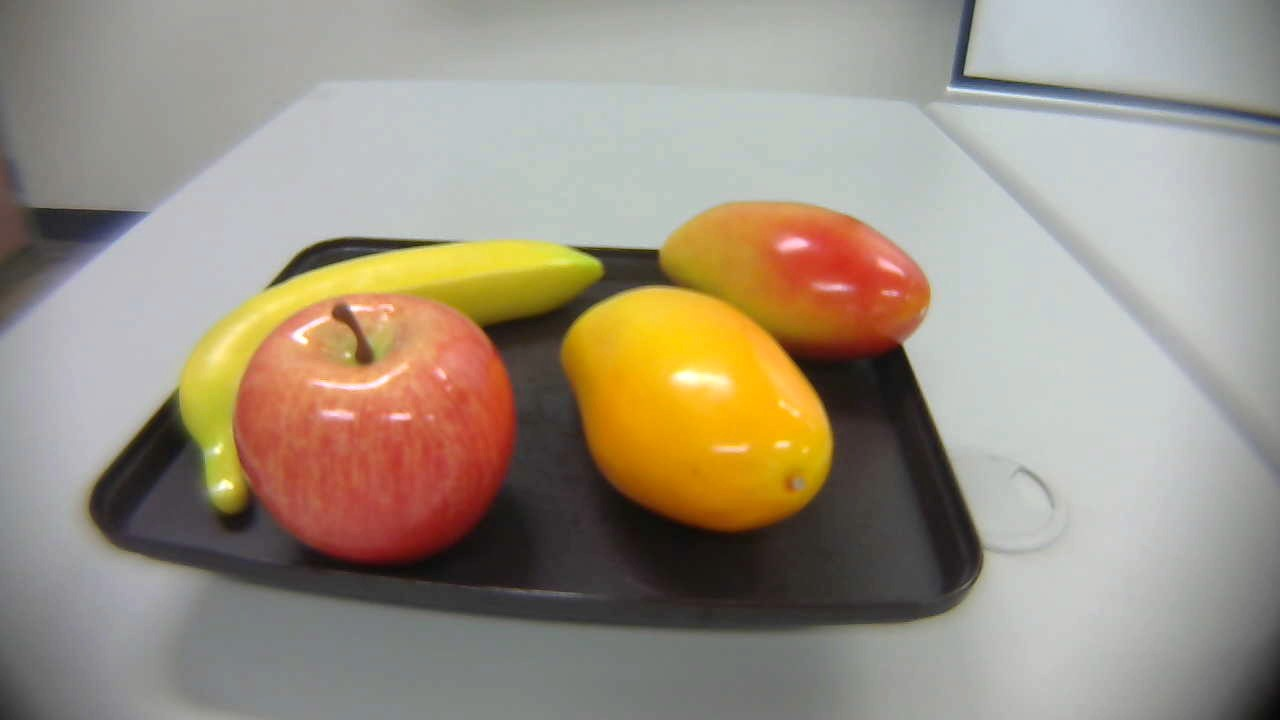banana: (157, 231, 607, 529)
red apple: (230, 289, 517, 568)
red mango: (647, 194, 933, 374)
yellow mango: (547, 278, 850, 569)
